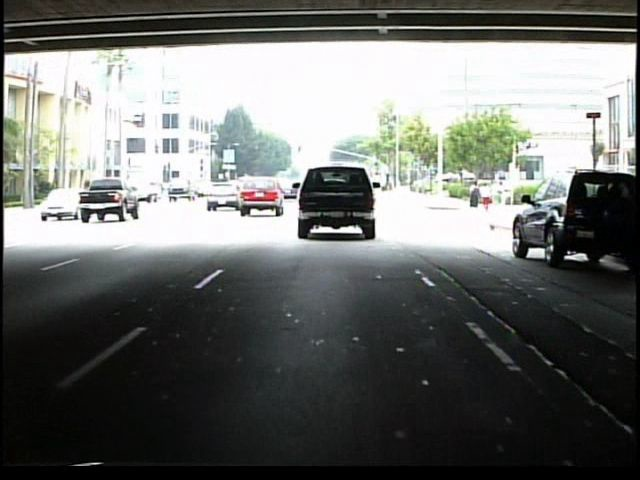person: (467, 179, 482, 216), (494, 178, 509, 215), (482, 182, 494, 213)
